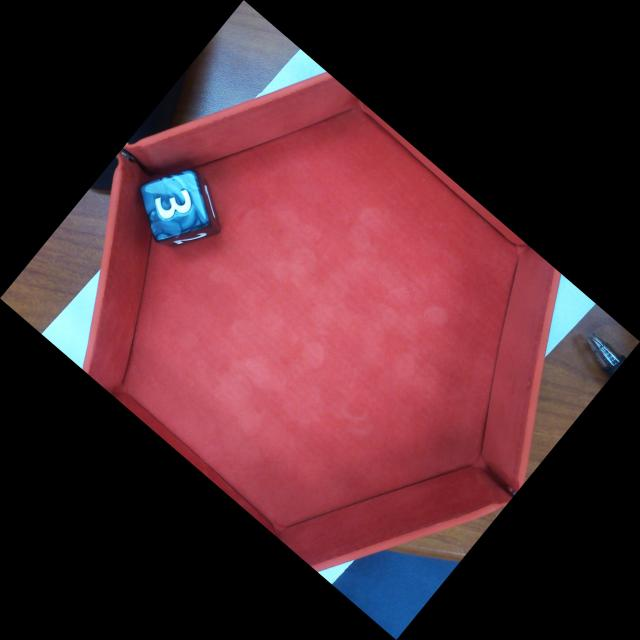dice: (144, 172, 219, 246)
